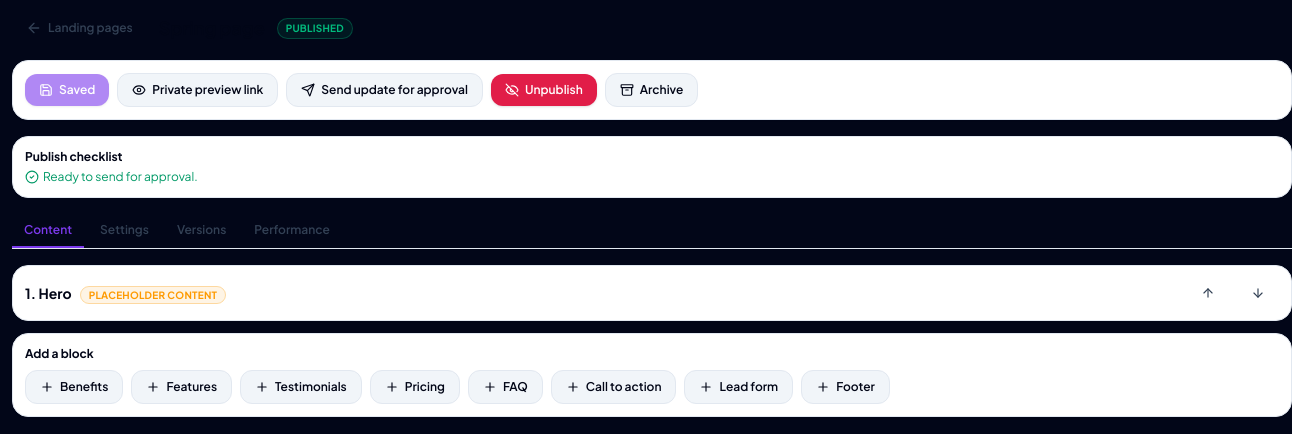
Test: LandingEditor › shows Unpublish only with publish permission on a live page, and honest empty performance
Expected: the button "Unpublish" is shown, [491,74,597,106]
What coordinates should you click on to do the following:
click the tab "performance"
I would click on:
 (292, 231)
Its box is [242,214,342,248].
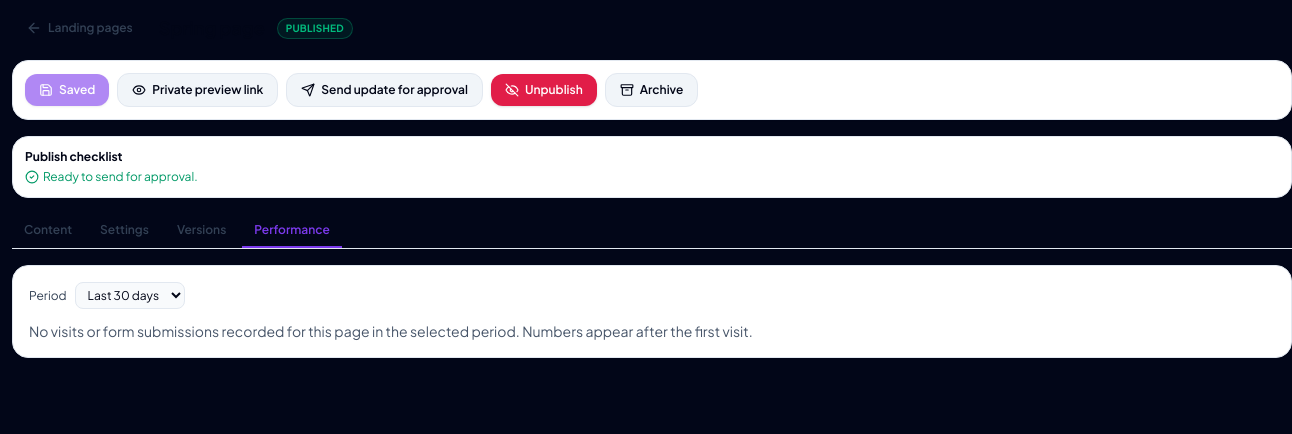
Expected: the text "No visits or form submissions recorded" is shown, [29,322,522,340]
